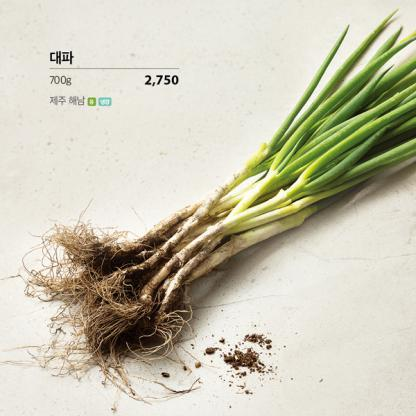green onion: (43, 6, 416, 376)
